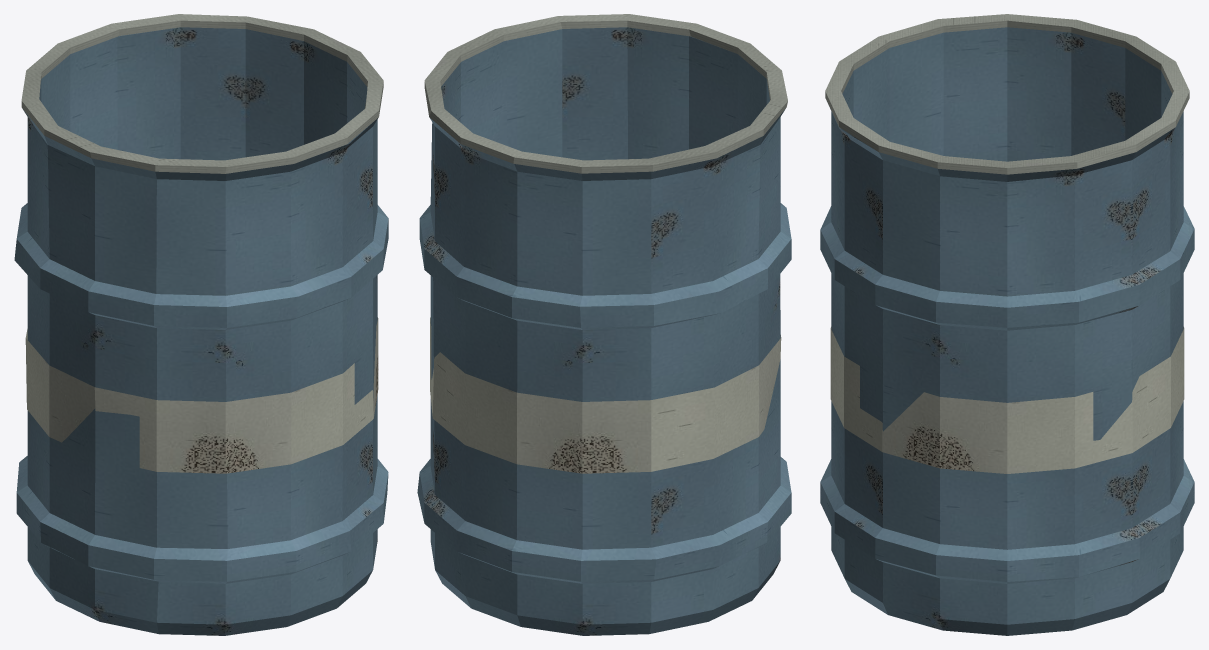
File: barrel3_v3.glb
3 renders of one model, left to right at view 1: azimuth 30°, elevation 25°; view 2: azimuth 150°, elevation 25°; view 3: azimuth 270°, elevation 25°, orthographic.
Parts seen in each view (by area): view 1: Variant_barrel3_3; view 2: Variant_barrel3_3; view 3: Variant_barrel3_3.
Boxes of the visible parts, x1,y1,x2,y2 form: Variant_barrel3_3: [14, 14, 388, 635]; Variant_barrel3_3: [417, 14, 791, 635]; Variant_barrel3_3: [820, 14, 1194, 635].
Bounding box in the file's own units: 0.616 × 0.86 × 0.616.
Materials: 4 (4 with a texture image).
